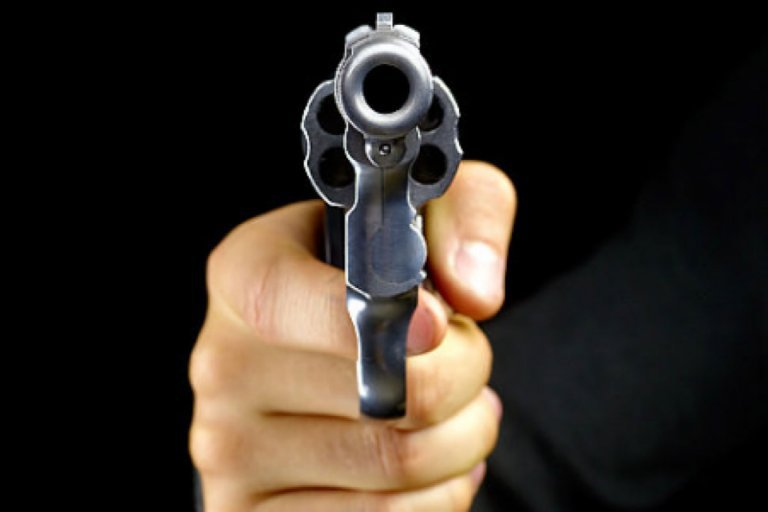Revolver: (259, 5, 521, 422)
